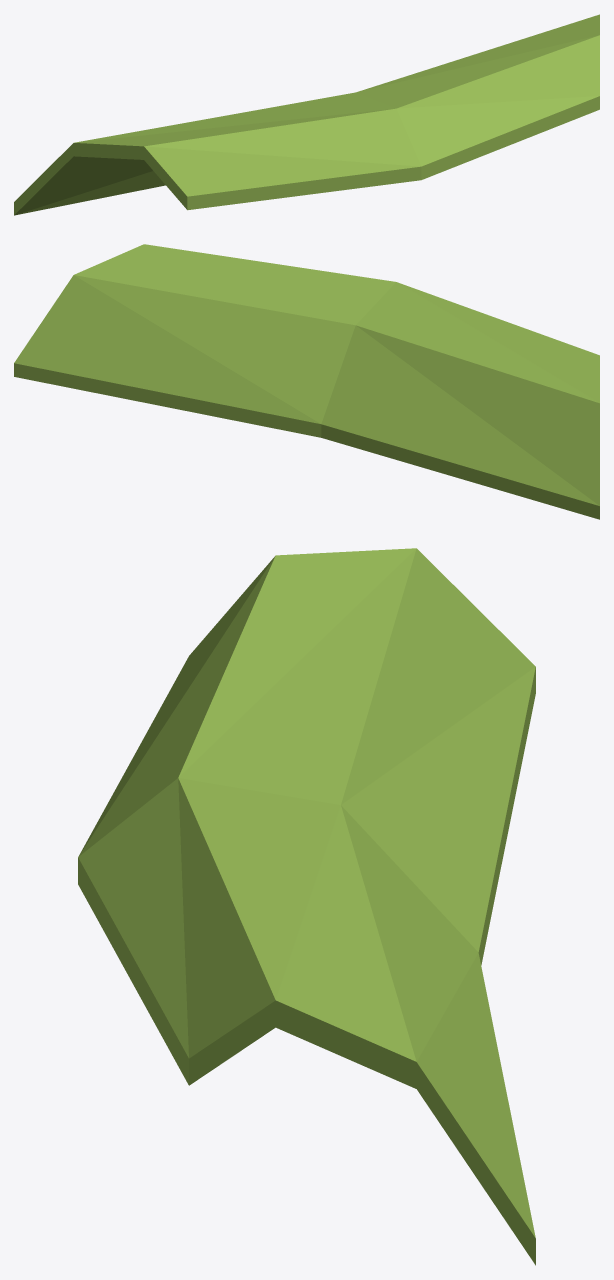
3 views of the same model, one above another, from view 1: azimuth 30°, elevation 25°; view 2: azimuth 150°, elevation 25°; view 3: azimuth 270°, elevation 25° (orthographic). The views are drawn at different scales.
Parts seen in each view (by area): view 1: 汇流岸角_2.001; view 2: 汇流岸角_2.001; view 3: 汇流岸角_2.001.
Boxes of the visible parts, left/top/right/bottom form: 汇流岸角_2.001: left=14, top=14, right=599, bottom=215; 汇流岸角_2.001: left=14, top=244, right=599, bottom=519; 汇流岸角_2.001: left=78, top=548, right=535, bottom=1265.
Size of the model in its own units: 0.5407 by 0.089 by 0.1829.
